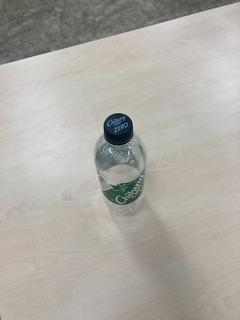BIODEGRADABLE: (92, 110, 148, 224)
